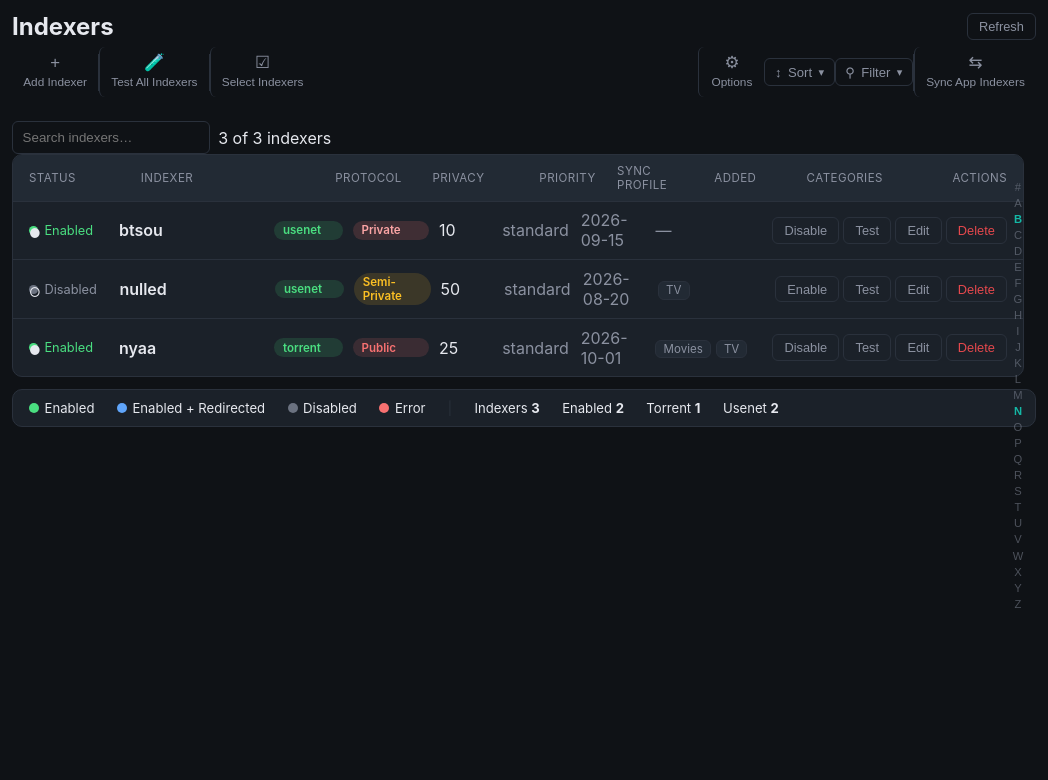
IndexerHubPage — toolbar behaviors › Test All Indexers probes every enabled indexer and reports a message
The image size is (1048, 780).
Click the button with test id "idx-test-all" at (154, 72), box [99, 47, 209, 97]
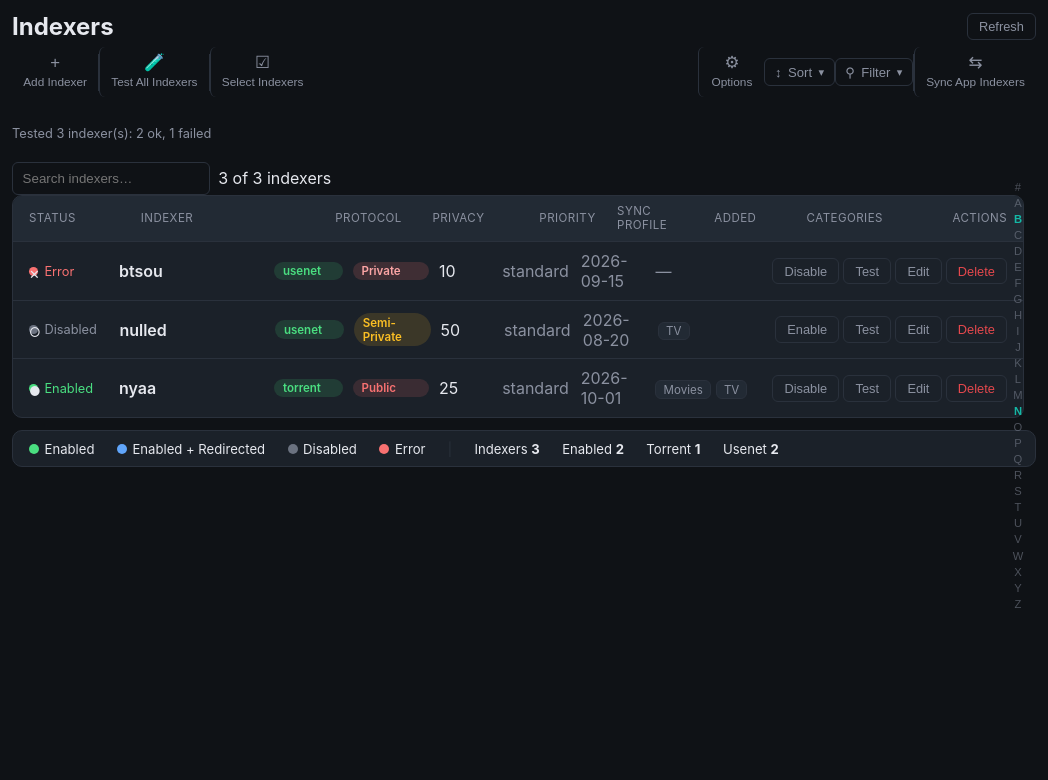
Expected: the message with test id "idx-test-all-msg" shows "Tested 3", [12, 126, 211, 141]
Expected: the element with test id "idx-status-error" is shown, [29, 264, 74, 278]
